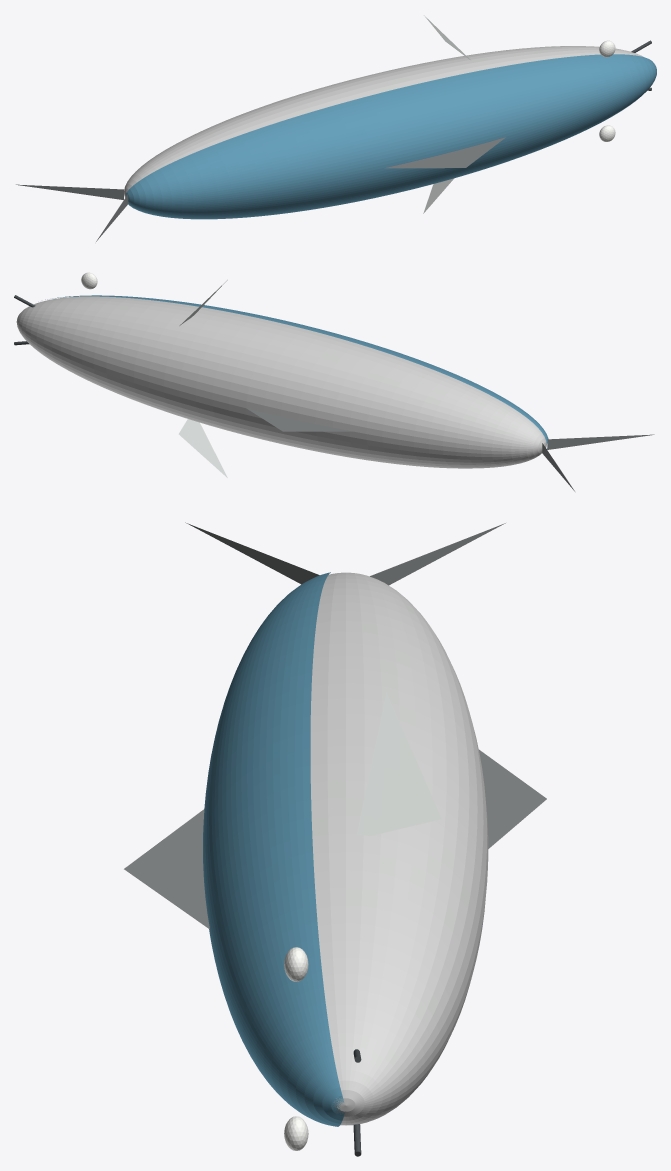
Rendered from bluefish_approx.glb.
The picture shows the model from 3 angles, top to bottom: view 1: azimuth 30°, elevation 25°; view 2: azimuth 150°, elevation 25°; view 3: azimuth 270°, elevation 25°; orthographic projection. The views are drawn at different scales.
Visible parts, largest first — view 1: blue_green_back_overlay, bluefish_silver_body, low_dorsal_fin, forked_tail; view 2: bluefish_silver_body, blue_green_back_overlay, pectoral_fin_right, forked_tail, anal_fin; view 3: bluefish_silver_body, blue_green_back_overlay, pectoral_fin_left, low_dorsal_fin, anal_fin, forked_tail.
Boxes of the visible parts, x1,y1,x2,y2 form: blue_green_back_overlay: [125, 54, 656, 219]; bluefish_silver_body: [124, 46, 643, 197]; low_dorsal_fin: [384, 137, 505, 168]; forked_tail: [16, 184, 128, 241]; bluefish_silver_body: [16, 296, 547, 468]; blue_green_back_overlay: [45, 295, 548, 449]; pectoral_fin_right: [178, 419, 227, 477]; forked_tail: [542, 434, 654, 491]; anal_fin: [246, 408, 352, 431]; bluefish_silver_body: [310, 572, 488, 1125]; blue_green_back_overlay: [203, 572, 344, 1126]; pectoral_fin_left: [356, 692, 441, 836]; low_dorsal_fin: [124, 809, 209, 929]; anal_fin: [479, 749, 546, 848]; forked_tail: [185, 522, 505, 585].
Size of the model in its own units: 2.92 by 0.9293 by 0.8933.
